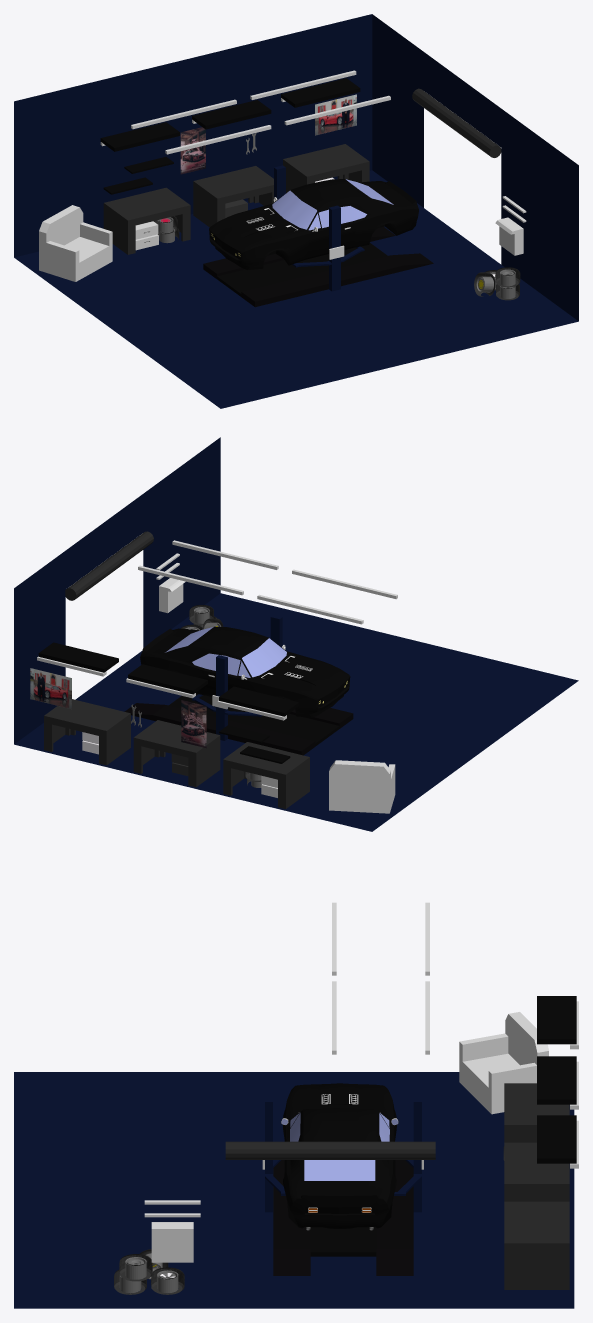
The model's file is гаражик.fbx.
The picture shows the model from 3 angles, top to bottom: view 1: azimuth 30°, elevation 25°; view 2: azimuth 150°, elevation 25°; view 3: azimuth 270°, elevation 25°; orthographic projection. The views are drawn at different scales.
Parts seen in each view (by area): view 1: Cube, Cube.036, sofa, Cube.012, Cube.003, Cube.011, Cube.010, Cube.001, Cylinder, Cube.033, Cube.013, Cube.034 (+9 smaller); view 2: Cube, Cube.036, Cube.010, sofa, Cube.011, Cube.012, Cube.002, Cube.001, Cylinder, Plane, Cube.033, Cube.034 (+9 smaller); view 3: Cube, Cube.036, Cube.010, sofa, Cylinder, Cube.011, Cube.002, Cube.003, Cube.012, Cube.033, Cube.013, Cube.034 (+4 smaller).
Part boxes in pixels (<box>): Cube: <box>14,14,578,408</box>; Cube.036: <box>209,179,418,269</box>; sofa: <box>39,205,112,281</box>; Cube.012: <box>103,187,190,254</box>; Cube.003: <box>241,253,433,307</box>; Cube.011: <box>193,166,273,227</box>; Cube.010: <box>283,144,369,192</box>; Cube.001: <box>217,243,387,296</box>; Cylinder: <box>412,88,501,157</box>; Cube.033: <box>100,122,179,151</box>; Cube.013: <box>192,100,271,129</box>; Cube.034: <box>281,78,360,107</box>; Cube: <box>14,437,578,831</box>; Cube.036: <box>140,626,350,717</box>; Cube.010: <box>44,699,130,765</box>; sofa: <box>329,760,395,813</box>; Cube.011: <box>133,720,220,787</box>; Cube.012: <box>223,742,309,808</box>; Cube.002: <box>124,703,315,755</box>; Cube.001: <box>169,693,339,746</box>; Cylinder: <box>65,531,153,600</box>; Plane: <box>30,668,71,709</box>; Cube.033: <box>219,686,299,716</box>; Cube.034: <box>38,642,118,672</box>; Cube: <box>14,1072,574,1308</box>; Cube.036: <box>281,1083,398,1230</box>; Cube.010: <box>504,1201,569,1289</box>; sofa: <box>459,1012,548,1114</box>; Cylinder: <box>225,1141,435,1159</box>; Cube.011: <box>504,1142,569,1201</box>; Cube.002: <box>376,1160,413,1275</box>; Cube.003: <box>273,1160,310,1275</box>; Cube.012: <box>504,1083,569,1142</box>; Cube.033: <box>537,996,576,1044</box>; Cube.013: <box>537,1056,576,1104</box>; Cube.034: <box>537,1115,576,1163</box>.
Size of the model in its own units: 1202 by 504 by 1210.
